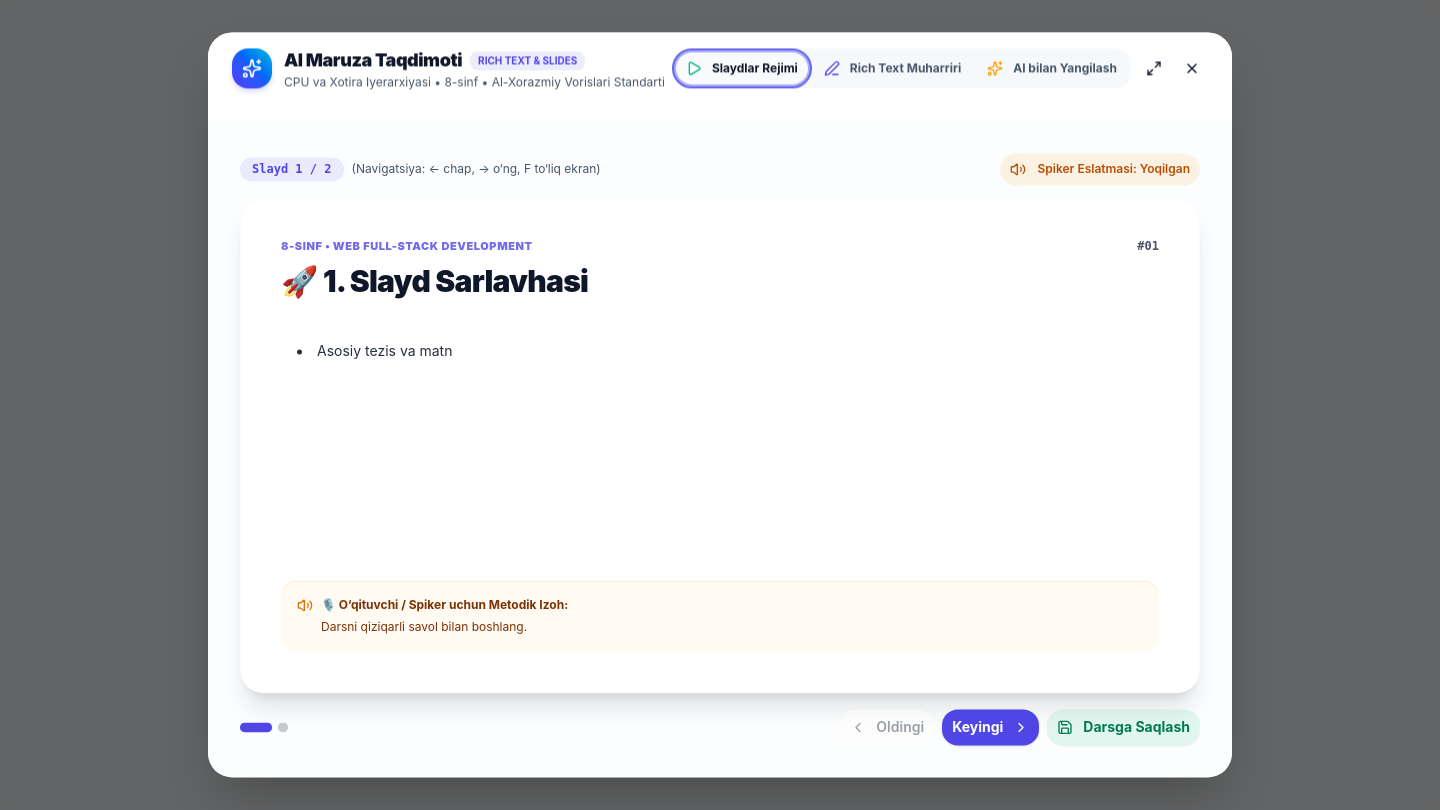
Test: AiPresentationModal Component › navigates between slides on next and previous button clicks
Expected: the text "Slayd 1 / 2" is shown, [240, 157, 344, 181]
Click Next button
Click the button "Keyingi": (991, 728) [942, 710, 1039, 746]
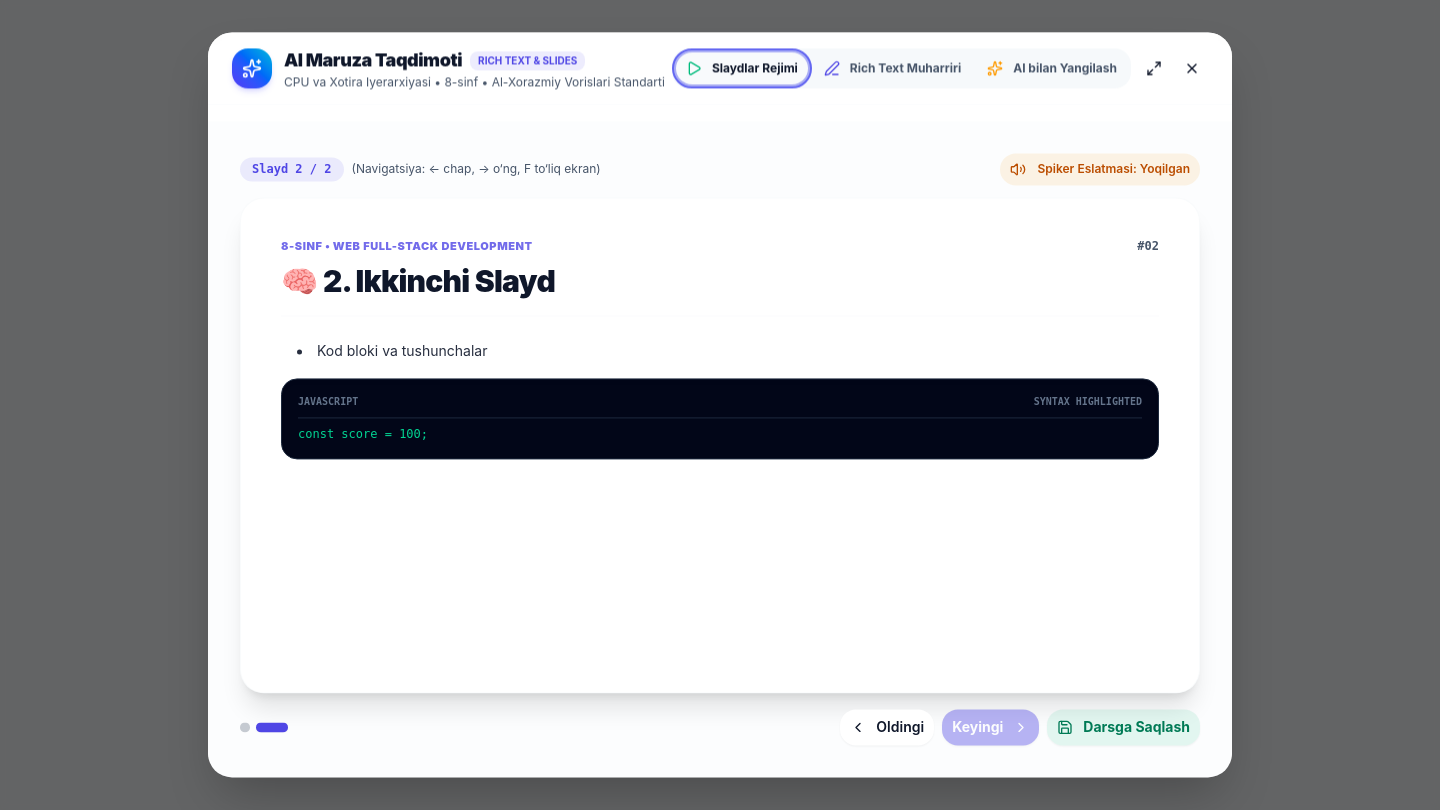
Expected: the text "Slayd 2 / 2" is shown, [240, 157, 344, 181]
Expected: the heading "🧠 2. Ikkinchi Slayd" is shown, [281, 263, 555, 299]
Click Oldingi button
Click the button "Oldingi": (887, 728) [840, 710, 934, 746]
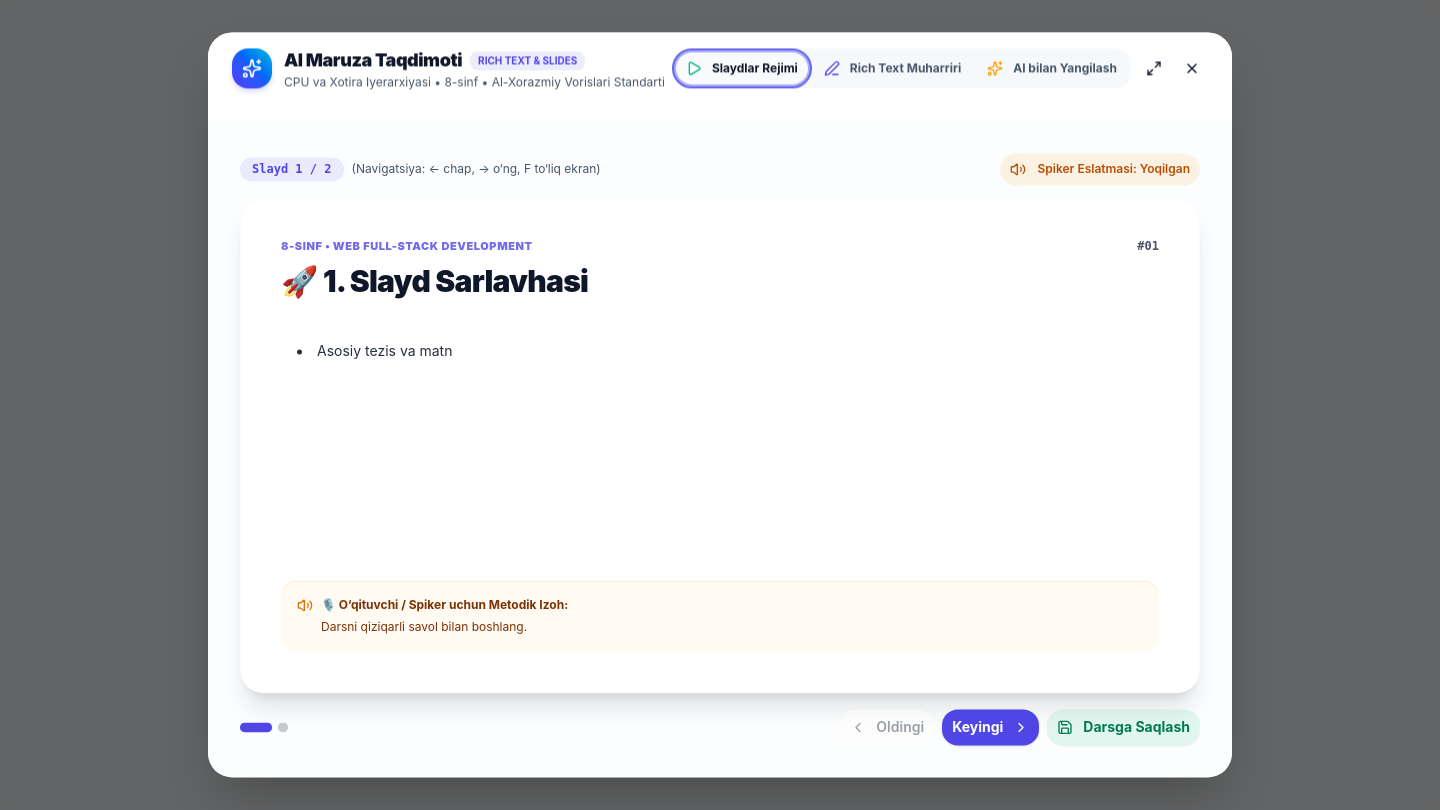
Expected: the text "Slayd 1 / 2" is shown, [240, 157, 344, 181]
